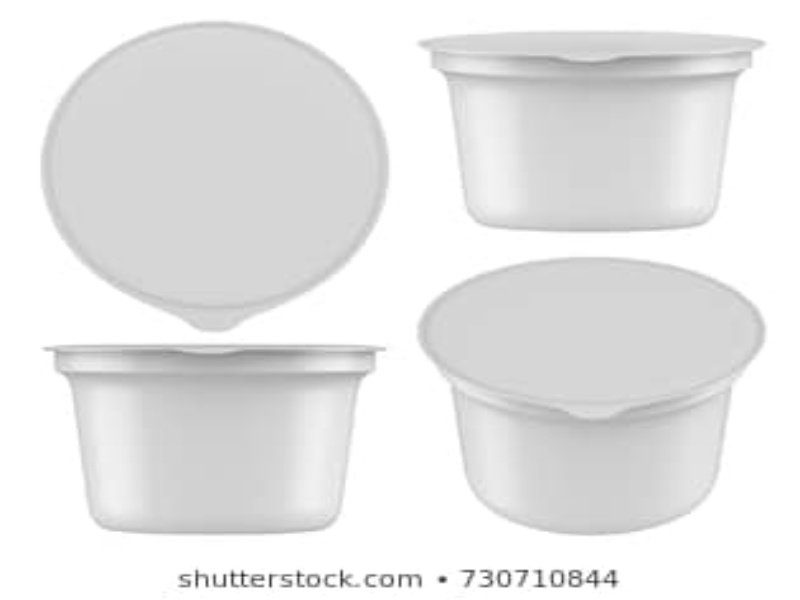yogurt-cup: (408, 252, 768, 540), (418, 24, 769, 236), (40, 333, 390, 538)
